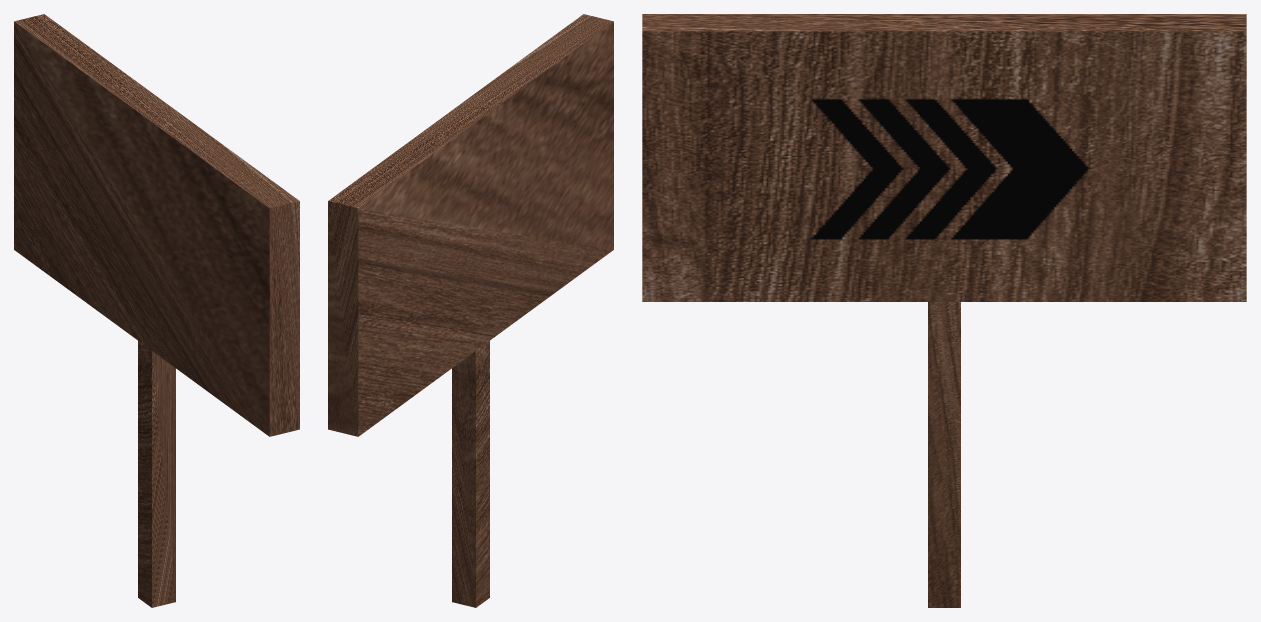
Rendered from Sign.fbx.
3 views of the same model, side by side, from view 1: azimuth 30°, elevation 25°; view 2: azimuth 150°, elevation 25°; view 3: azimuth 270°, elevation 25° (orthographic). The views are drawn at different scales.
Visible parts, largest first — view 1: Cube.001; view 2: Cube.001; view 3: Cube.001.
Part boxes in pixels (x1,y1,x2,y2): Cube.001: (14,14,299,607); Cube.001: (328,14,613,607); Cube.001: (642,14,1246,607).
Size of the model in its own units: 31.54 by 488 by 462.
